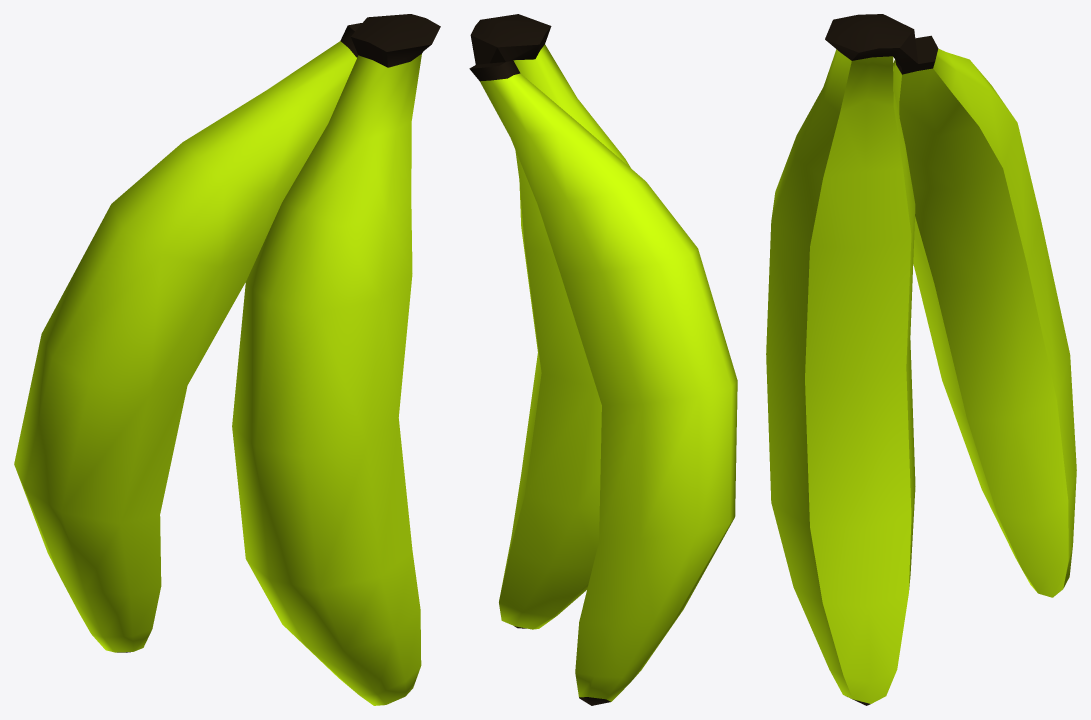
The model's file is Banana.fbx.
3 renders of one model, left to right at view 1: azimuth 30°, elevation 25°; view 2: azimuth 150°, elevation 25°; view 3: azimuth 270°, elevation 25°, orthographic. The views are drawn at different scales.
Parts seen in each view (by area): view 1: Banana; view 2: Banana; view 3: Banana.
Part boxes in pixels (<box>): Banana: <box>14,14,440,705</box>; Banana: <box>469,14,737,705</box>; Banana: <box>766,14,1076,705</box>.
Size of the model in its own units: 0.1851 by 0.3454 by 0.1411.
